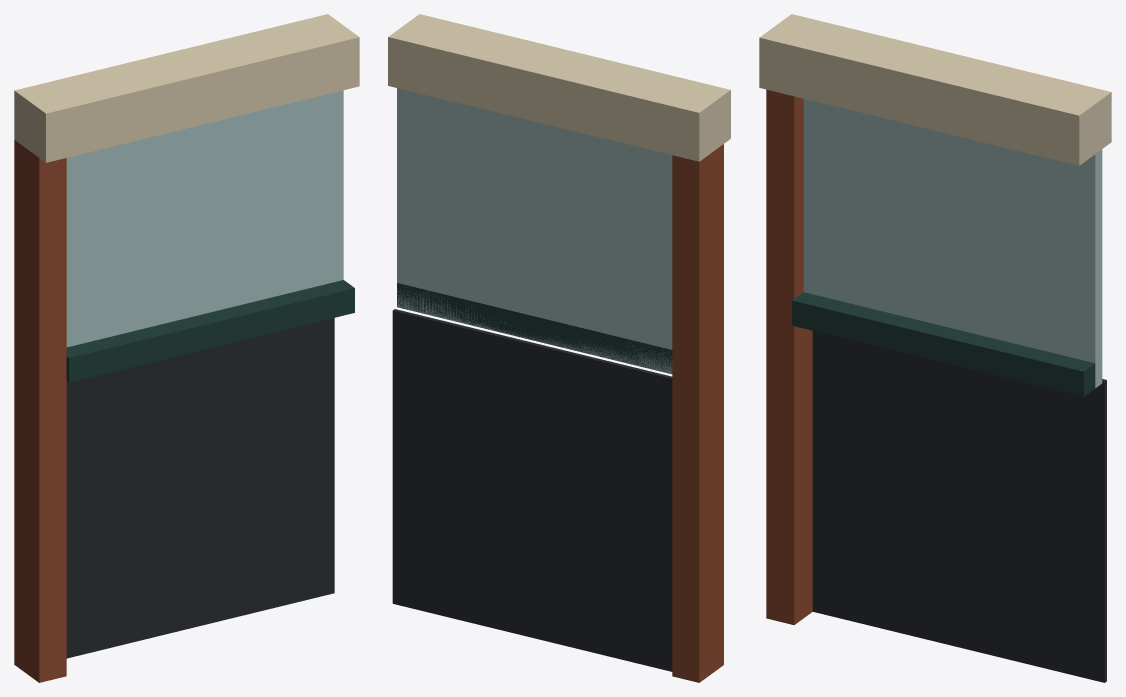
Rendered from iron-entrance.glb.
3 views of the same model, side by side, from view 1: azimuth 30°, elevation 25°; view 2: azimuth 150°, elevation 25°; view 3: azimuth 330°, elevation 25° (orthographic). The views are drawn at different scales.
Parts seen in each view (by area): view 1: iron-entrance; view 2: iron-entrance; view 3: iron-entrance.
Boxes of the visible parts, x1=… form: iron-entrance: x1=14, y1=14, x2=359, y2=682; iron-entrance: x1=388, y1=14, x2=730, y2=682; iron-entrance: x1=759, y1=14, x2=1111, y2=682.
Size of the model in its own units: 4 by 7 by 0.7.
